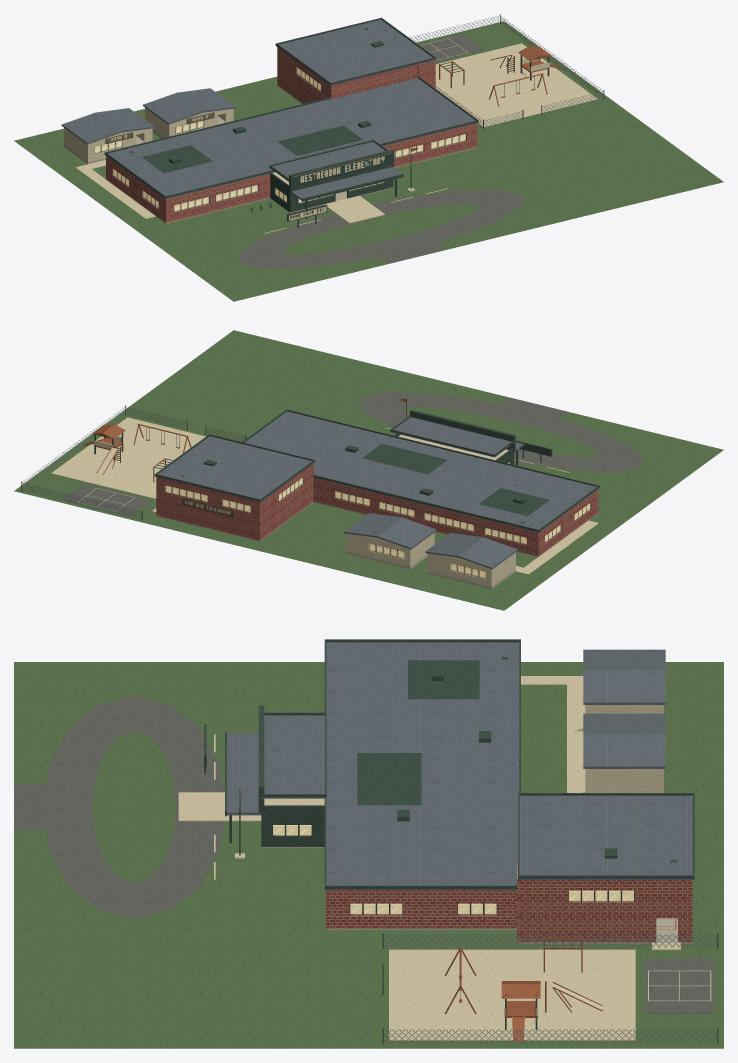
The model's file is westmeadow-1990-far.glb.
The picture shows the model from 3 angles, top to bottom: view 1: azimuth 30°, elevation 25°; view 2: azimuth 150°, elevation 25°; view 3: azimuth 270°, elevation 25°; orthographic projection. The views are drawn at different scales.
Visible parts, largest first — view 1: lot, building_shell, portable_a, portable_b, sign_name; view 2: lot, building_shell, portable_a, portable_b; view 3: lot, building_shell, portable_b, portable_a.
Boxes of the visible parts, box(x1,y1,x2,y2) form: lot: box(14, 14, 723, 301); building_shell: box(104, 17, 478, 223); portable_a: box(61, 108, 154, 163); portable_b: box(143, 88, 235, 138); sign_name: box(292, 152, 392, 187); lot: box(14, 330, 723, 610); building_shell: box(152, 409, 599, 556); portable_a: box(425, 533, 517, 589); portable_b: box(344, 513, 436, 569); lot: box(14, 662, 723, 1048); building_shell: box(225, 639, 694, 950); portable_b: box(574, 713, 665, 792); portable_a: box(574, 649, 665, 731).
Size of what is drawn, in the model's own units: 85 by 7.1 by 66.
11 materials, 11 textured.
